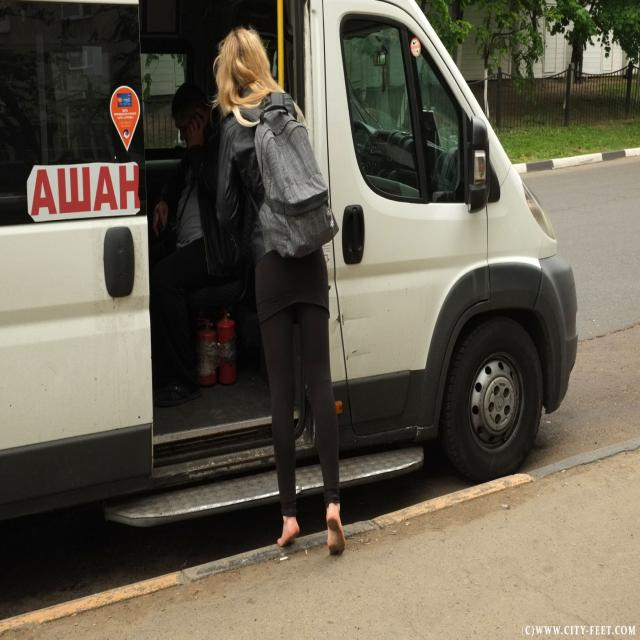Barefoots: (326, 507, 346, 555), (278, 517, 300, 547)
